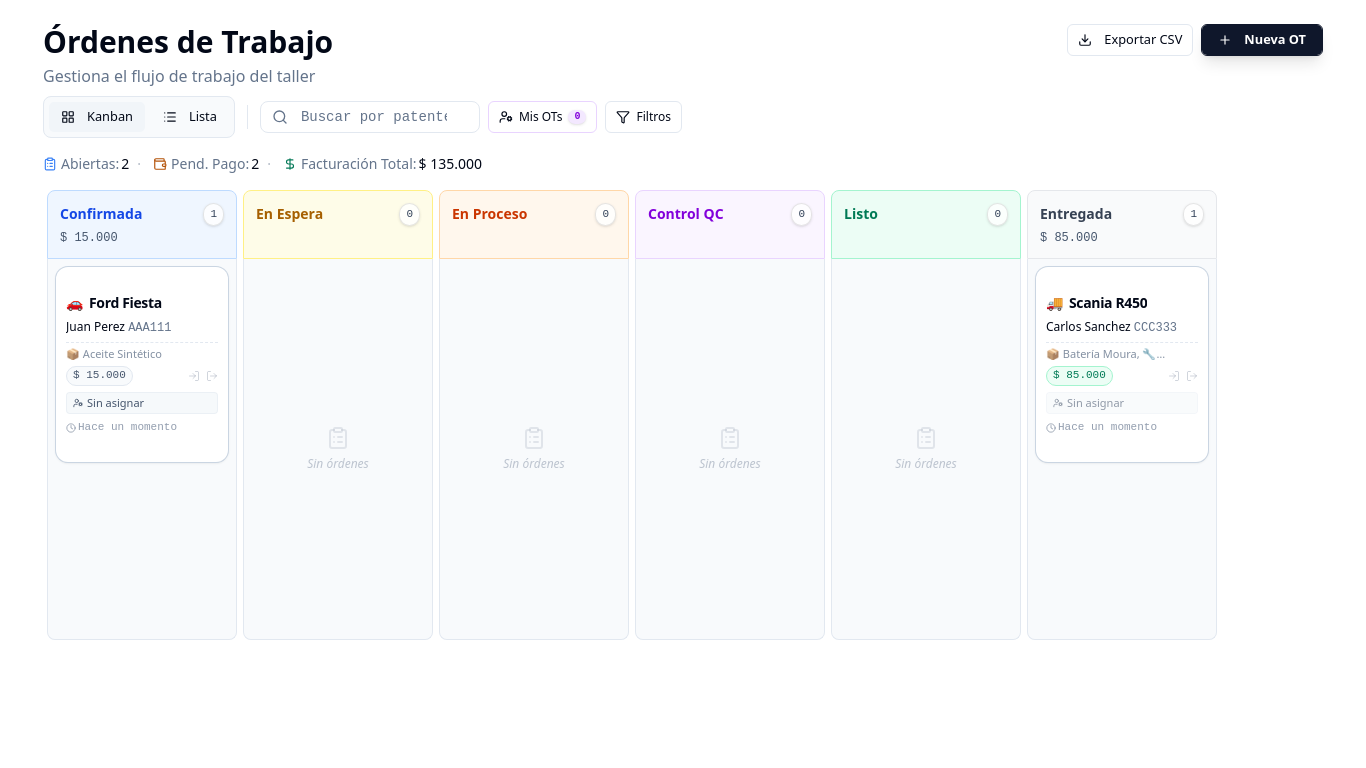
Test: WorkOrdersPage - Interactive List View Controls › renders the interactive status and technician controls on List View rows
Expected: the text "AAA111" is shown, [128, 320, 171, 334]
Switch to List View
Click the button "Lista" at [190, 117], box [150, 101, 230, 133]
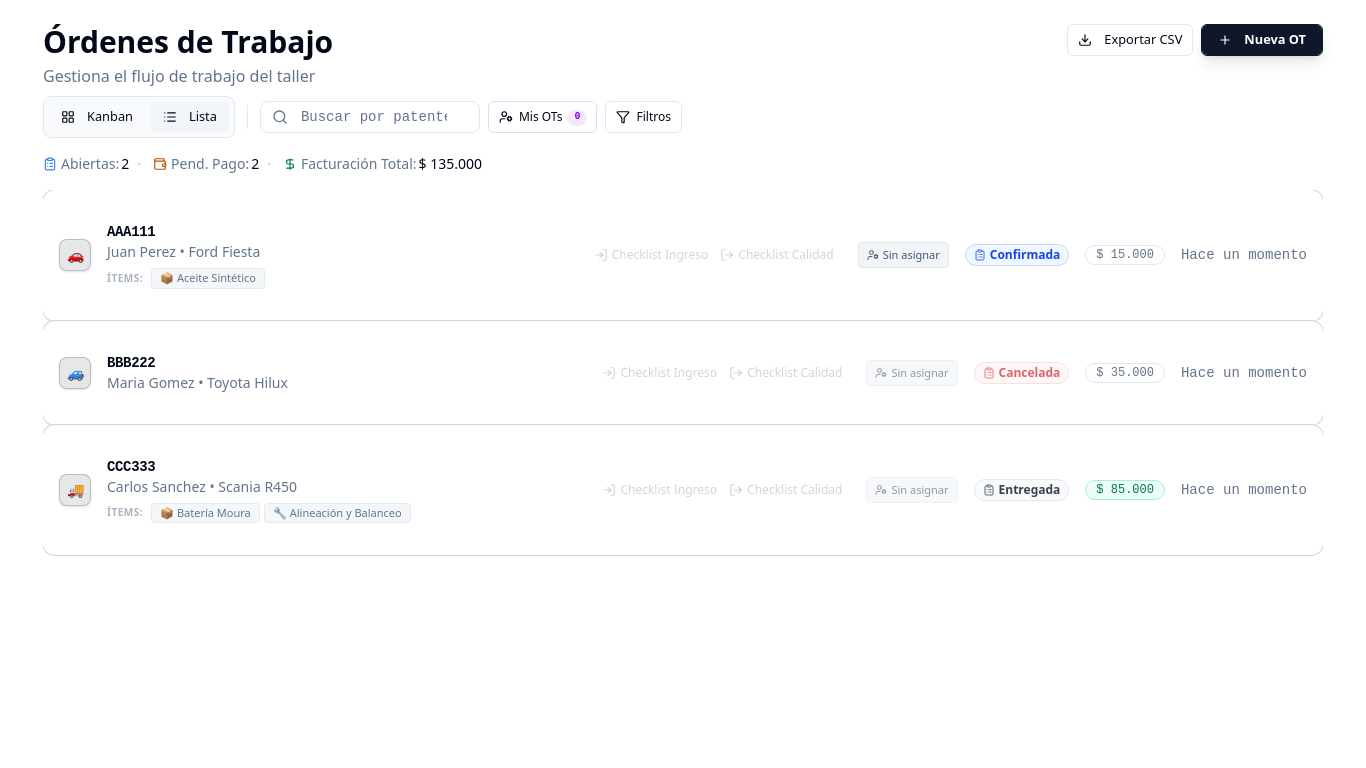
Expected: the text "Sin asignar" in the row of "$ 15.000" is shown, [883, 248, 940, 262]
Expected: the text "Cancelada" is shown, [999, 365, 1060, 381]
